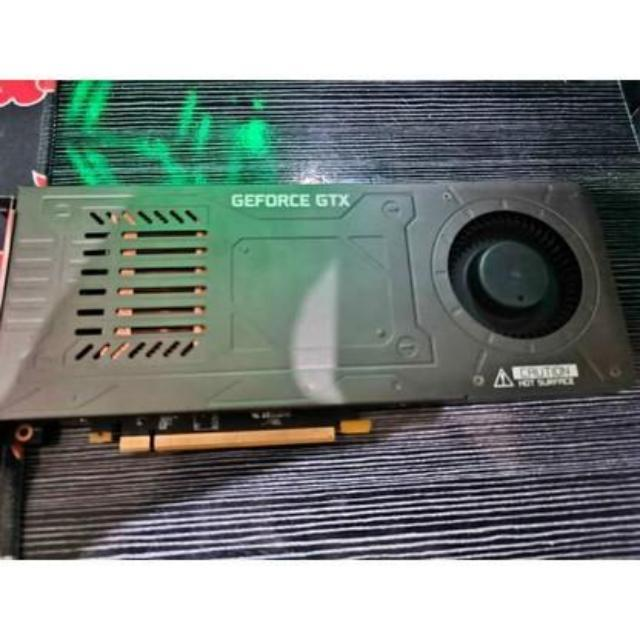GPU: (0, 182, 640, 448)
